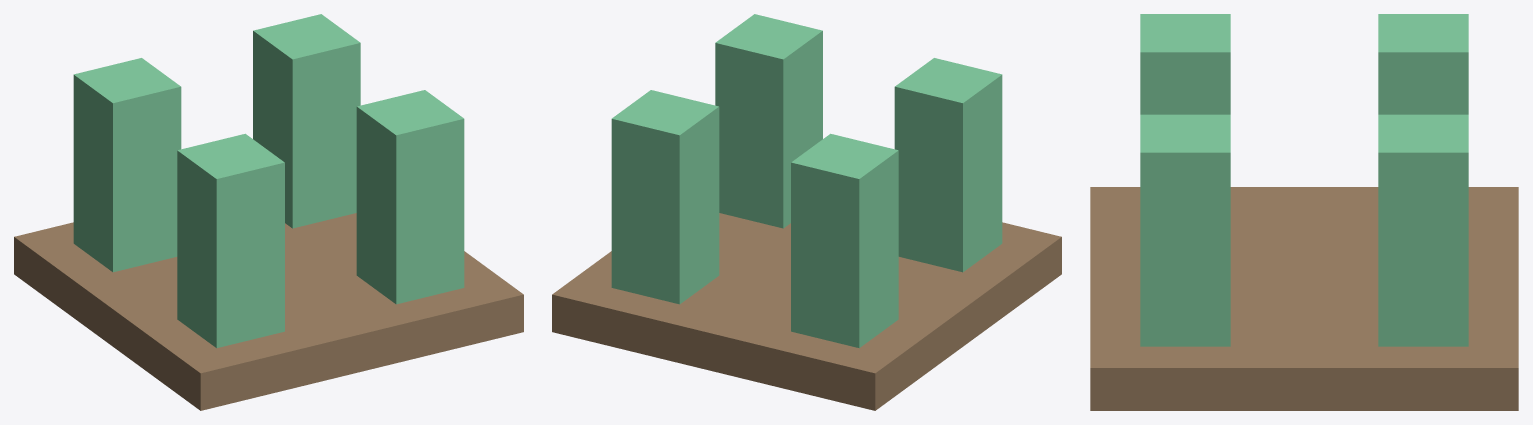
File: Prop_DS_Crop_Clover_S3_V1.glb
The picture shows the model from 3 angles, left to right: view 1: azimuth 30°, elevation 25°; view 2: azimuth 150°, elevation 25°; view 3: azimuth 270°, elevation 25°; orthographic projection. The views are drawn at different scales.
Visible parts, largest first — view 1: Cube, Cube.003, Cube.001, Cube.002, Cube.004; view 2: Cube, Cube.004, Cube.002, Cube.001, Cube.003; view 3: Cube, Cube.003, Cube.004, Cube.001, Cube.002.
Boxes of the visible parts, x1,y1,x2,y2 form: Cube: [14, 213, 523, 410]; Cube.003: [356, 90, 464, 304]; Cube.001: [177, 133, 284, 348]; Cube.002: [73, 58, 181, 272]; Cube.004: [253, 14, 360, 228]; Cube: [552, 213, 1061, 410]; Cube.004: [611, 90, 719, 304]; Cube.002: [791, 133, 898, 348]; Cube.001: [894, 58, 1002, 272]; Cube.003: [715, 14, 822, 228]; Cube: [1090, 187, 1518, 410]; Cube.003: [1140, 114, 1230, 346]; Cube.004: [1378, 114, 1468, 346]; Cube.001: [1140, 14, 1230, 114]; Cube.002: [1378, 14, 1468, 114].
Bounding box in the file's own units: 0.9 × 0.55 × 0.9.
